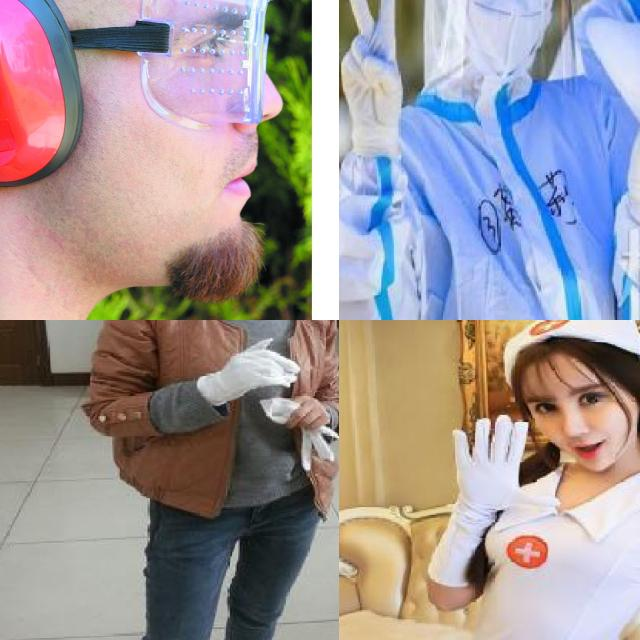Ear-protection: (0, 0, 82, 189)
face_mask: (449, 0, 560, 77)
face_nomask: (526, 361, 640, 481)
glasses: (56, 0, 278, 130)
hand_glove: (451, 415, 559, 513), (339, 0, 412, 135), (206, 336, 301, 392)
hand_noglove: (280, 393, 329, 432)
head_nohelmet: (484, 320, 640, 373)
person: (339, 0, 640, 320), (95, 320, 339, 640), (413, 320, 640, 640)
